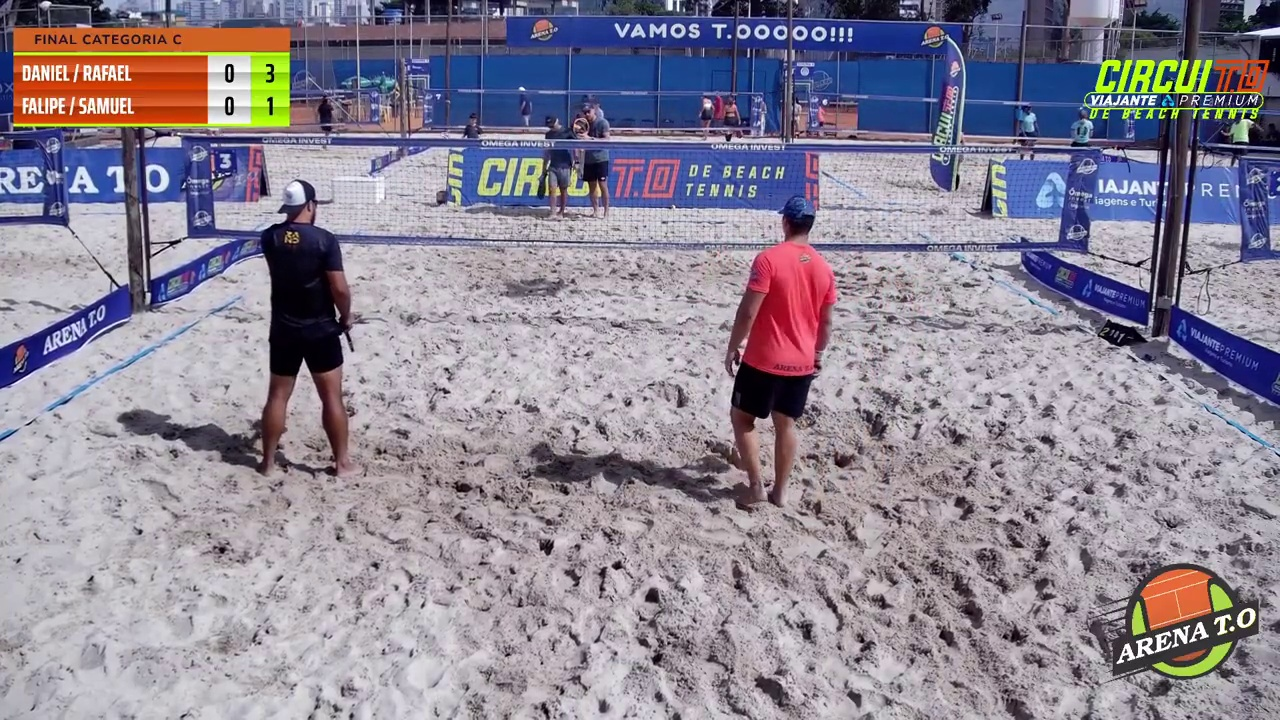court_line: (641, 0, 803, 423)
